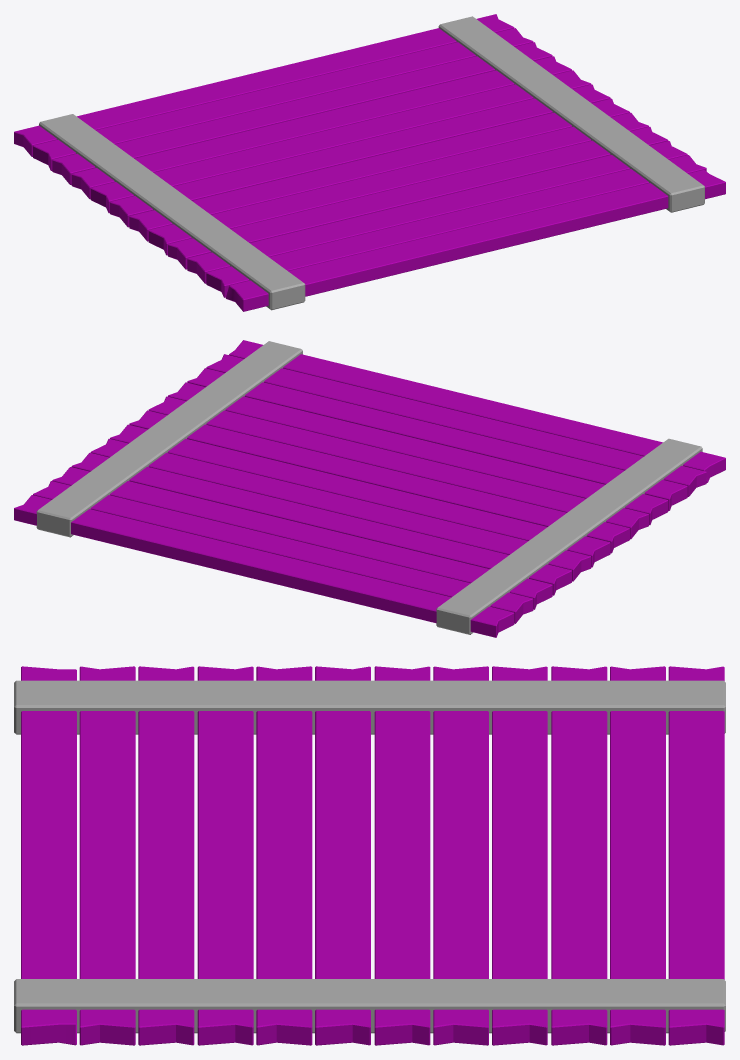
File: Platform_Wood_1.fbx
The picture shows the model from 3 angles, top to bottom: view 1: azimuth 30°, elevation 25°; view 2: azimuth 150°, elevation 25°; view 3: azimuth 270°, elevation 25°; orthographic projection. The views are drawn at different scales.
Visible parts, largest first — view 1: pCube270, Steel_Band1; view 2: pCube270, Steel_Band1; view 3: pCube270, Steel_Band1.
Boxes of the visible parts, bbox=[...] form: pCube270: bbox=[14, 14, 725, 311]; Steel_Band1: bbox=[39, 16, 704, 310]; pCube270: bbox=[14, 340, 725, 637]; Steel_Band1: bbox=[36, 341, 702, 634]; pCube270: bbox=[21, 666, 724, 1045]; Steel_Band1: bbox=[14, 680, 725, 1033].
Bounding box in the file's own units: 7.69 × 0.2968 × 6.41.
